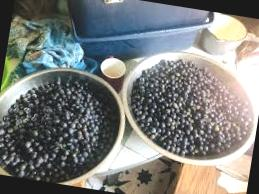Grape Rotten: (121, 51, 259, 166), (0, 66, 113, 190)
